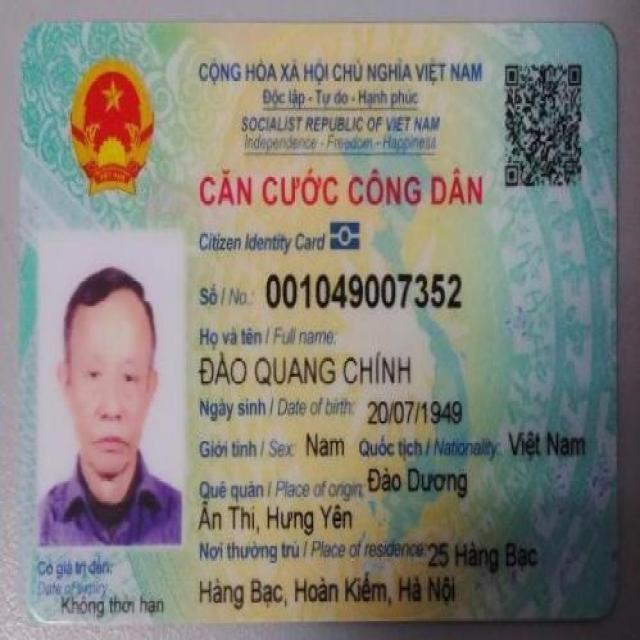current_place: (193, 569, 461, 610), (423, 532, 543, 571)
dob: (364, 395, 467, 431)
expire_date: (58, 590, 167, 618)
gender: (305, 427, 348, 458)
id: (265, 271, 465, 308)
name: (198, 349, 414, 387)
nationality: (507, 427, 590, 462)
origin_place: (196, 502, 355, 536), (366, 464, 470, 498)
qr: (498, 55, 590, 192)
